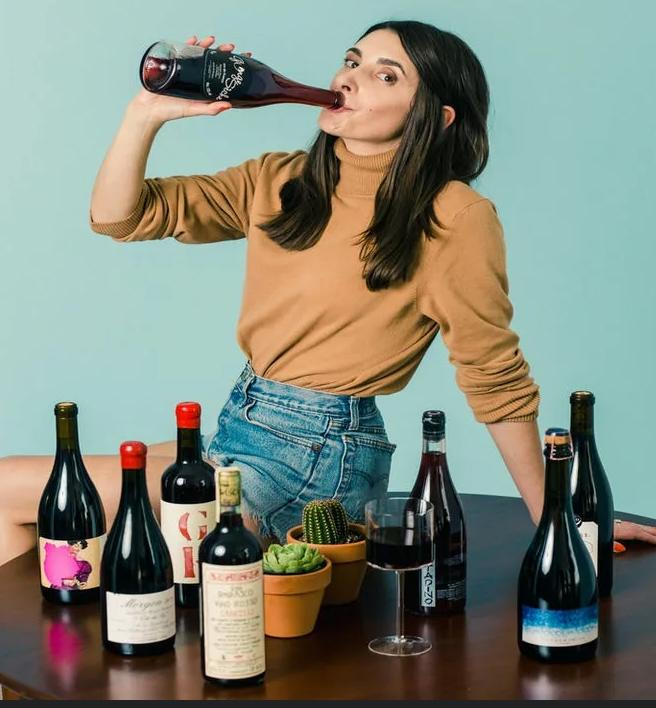wine bottle: (518, 429, 599, 666), (100, 441, 175, 659), (198, 466, 267, 691), (139, 40, 345, 114), (36, 402, 108, 605), (402, 409, 467, 617), (159, 401, 217, 610), (570, 390, 613, 597)
wine label: (203, 559, 266, 679), (160, 498, 217, 584), (38, 532, 108, 590), (107, 586, 176, 644), (522, 600, 598, 647), (421, 543, 467, 607), (202, 47, 252, 103), (575, 514, 598, 571)
